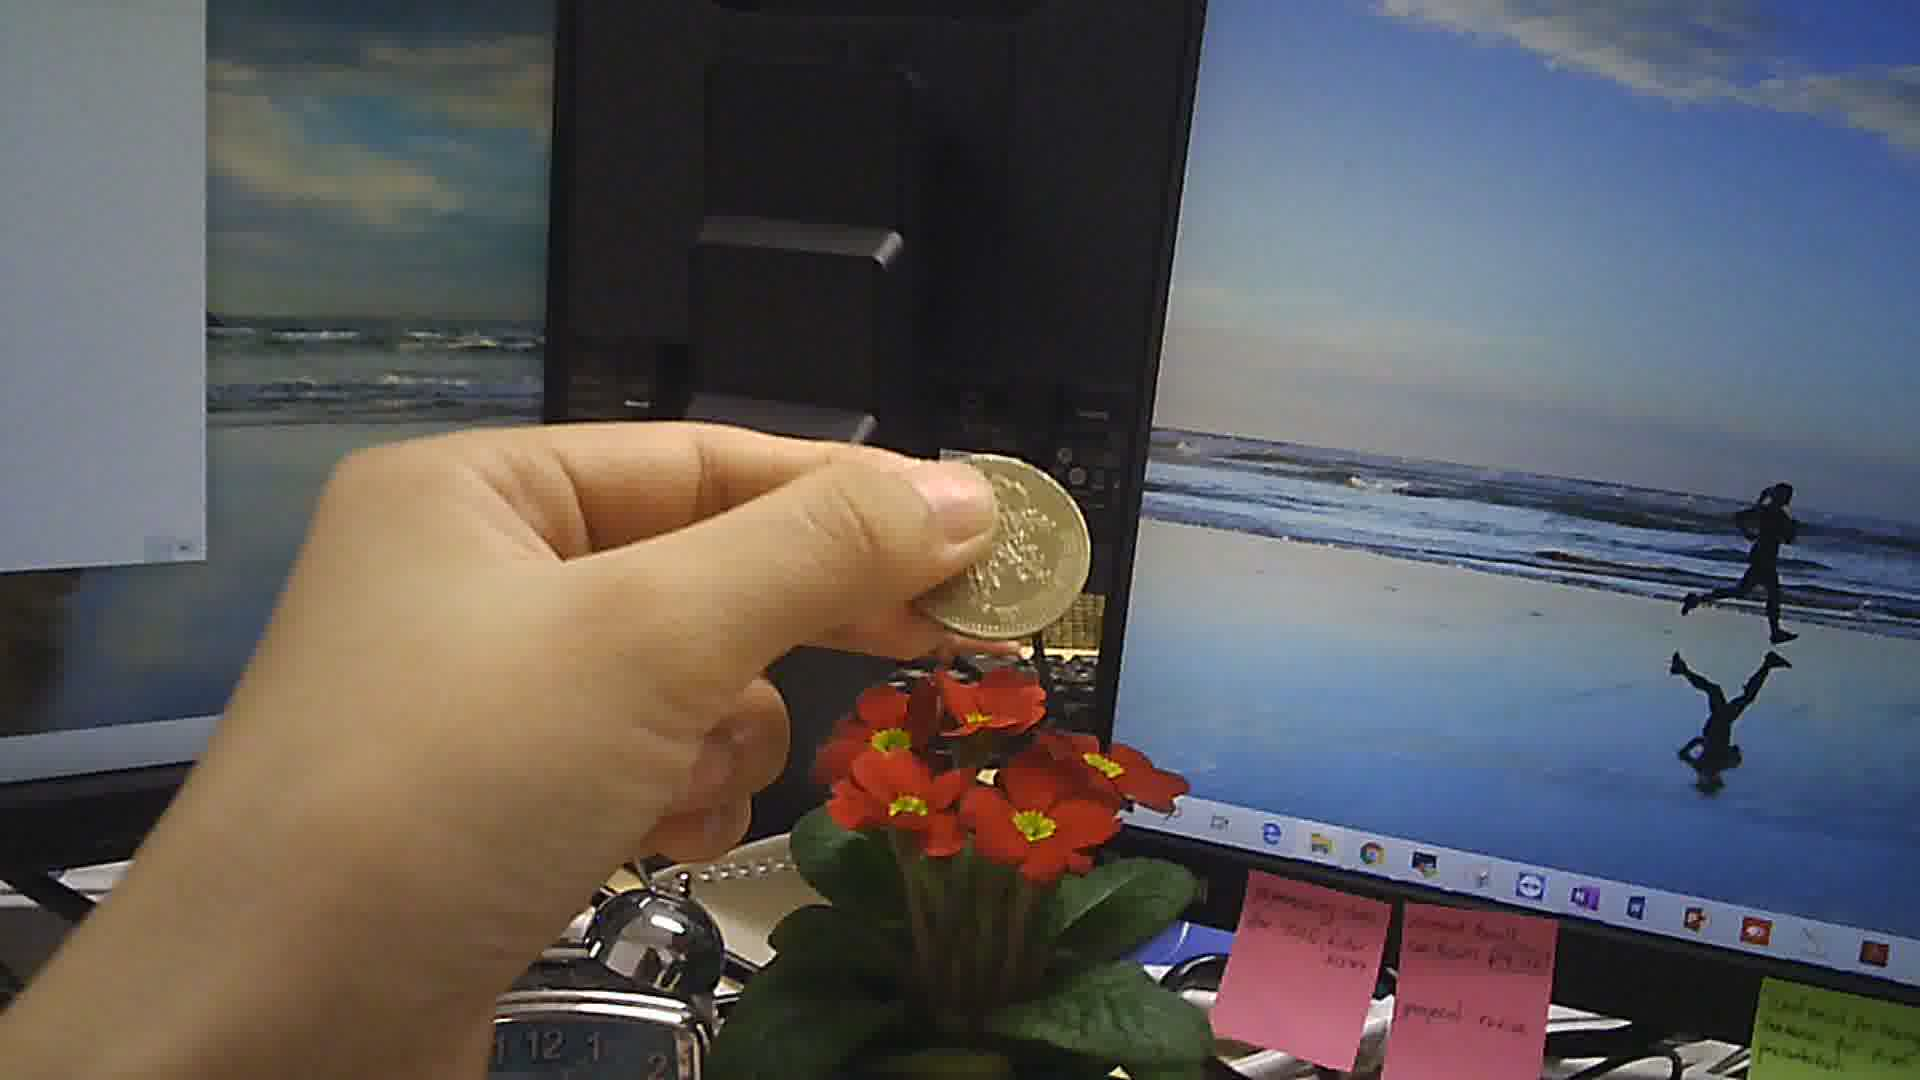500 Yen: (897, 444, 1102, 647)
